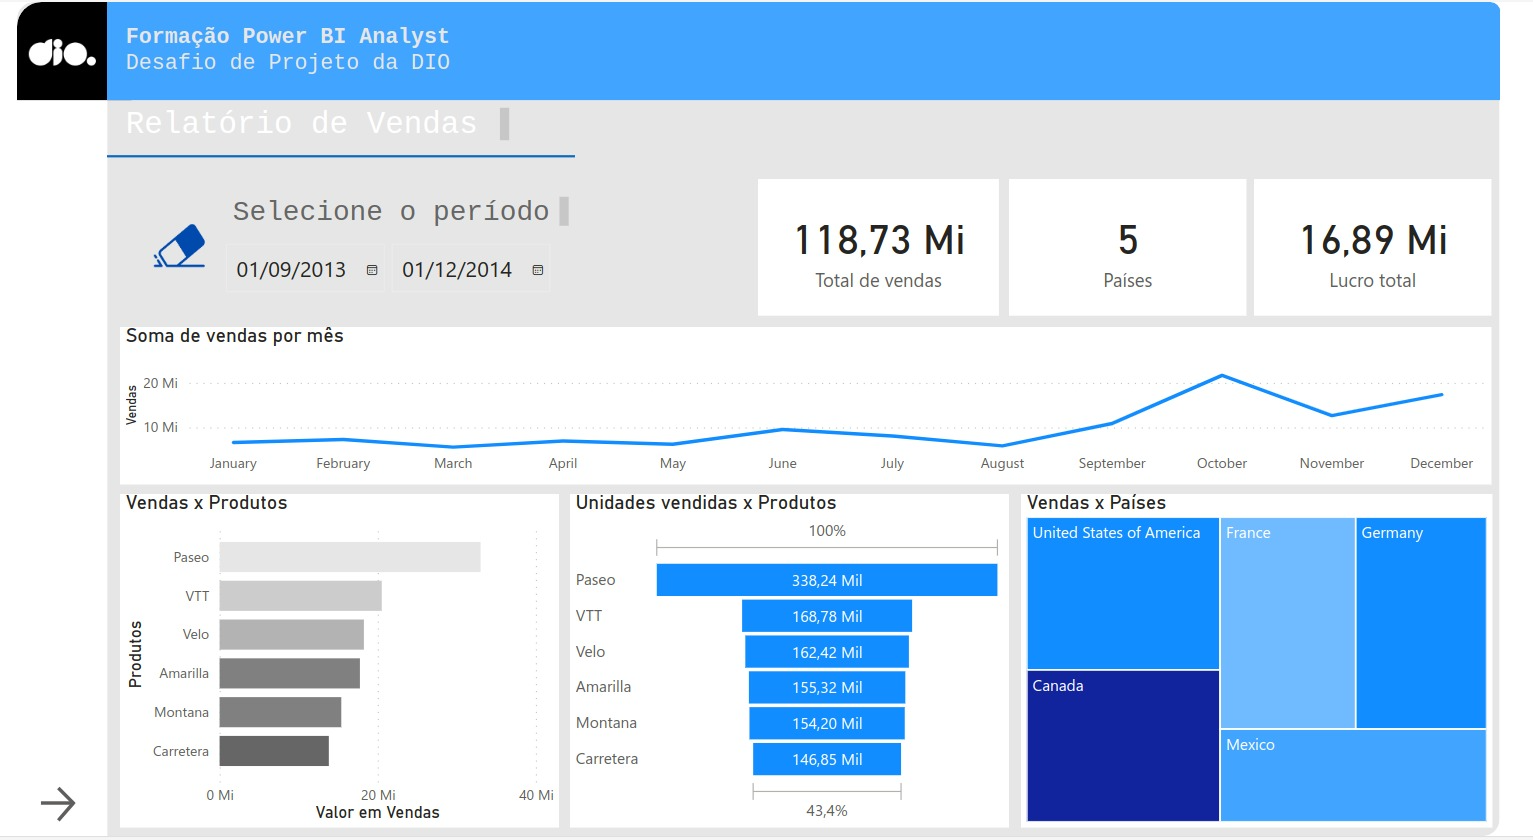

Layout of this report page (visuals, bound fields, positions):
{"tool":"powerbi","page":{"name":"Page 1","canvas":[1280,720],"ordinal":0},"visuals":[{"type":"shape","box":[0,0,1280,720],"z":0},{"type":"shape","box":[0,81.7,77.5,638.3],"z":1000},{"type":"shape","box":[0,0,99.2,85],"z":2000},{"type":"shape","box":[77.5,0,1202.5,85],"z":3000},{"type":"image","box":[5,6.7,68.3,71.7],"z":4000},{"type":"textbox","box":[89.2,15,300,55],"z":5000},{"type":"textbox","box":[89.1,86.4,313.6,47.3],"z":6000},{"type":"shape","box":[77.3,125.5,403.6,16.4],"z":7000},{"type":"card","fields":{"Values":["Sum(financials. Sales)"]},"box":[640,152.7,208.2,118.2],"z":8000},{"type":"card","fields":{"Values":["Count(financials.Country)"]},"box":[856.4,152.7,204.5,118.2],"z":9000},{"type":"card","fields":{"Values":["Sum(financials.Profit)"]},"box":[1068.2,152.7,205.5,118.2],"z":10000},{"type":"lineChart","title":"Soma de vendas por mes","fields":{"Category":["financials.Date.Variation.Date Hierarchy.Month"],"Y":["Sum(financials. Sales)"]},"box":[89.1,280.9,1184.5,132.7],"z":11000},{"type":"clusteredBarChart","title":"Vendas x Produtos","fields":{"Y":["Sum(financials. Sales)"],"Category":["financials.Product"]},"box":[89.1,424.5,379.1,288.2],"z":12000},{"type":"funnel","title":"Unidades vendidas x Produtos","fields":{"Y":["Sum(financials.Units Sold)"],"Category":["financials.Product"]},"box":[477.8,424.4,378.9,287.8],"z":13000},{"type":"treemap","title":"Vendas x Paises","fields":{"Values":["Sum(financials. Sales)"],"Group":["financials.Country"]},"box":[866.7,424.4,406.7,287.8],"z":14000},{"type":"slicer","fields":{"Values":["financials.Date"]},"box":[167.8,198.9,300,60],"z":15000},{"type":"textbox","box":[181.1,163.3,300,35.6],"z":16000},{"type":"image","box":[113.3,181.1,54.4,57.8],"z":17000},{"type":"actionButton","box":[113.3,184.4,54.4,54.4],"z":18000},{"type":"actionButton","box":[14.4,672.2,47.8,40],"z":19000}]}

Visuals, with their boxes in screenshot pixels (x1, y1, x2, y2), scaled from the page's 1280x720 canvas onto the 1533x840 screenshot:
shape: (0, 0, 1532, 839)
shape: (0, 95, 93, 839)
shape: (0, 0, 119, 99)
shape: (93, 0, 1532, 99)
image: (6, 8, 88, 91)
textbox: (107, 18, 466, 82)
textbox: (107, 101, 482, 156)
shape: (93, 146, 576, 166)
card - Sum(financials. Sales): (766, 178, 1016, 316)
card - Count(financials.Country): (1026, 178, 1271, 316)
card - Sum(financials.Profit): (1279, 178, 1525, 316)
"Soma de vendas por mes" lineChart: (107, 328, 1525, 483)
"Vendas x Produtos" clusteredBarChart: (107, 495, 561, 831)
"Unidades vendidas x Produtos" funnel: (572, 495, 1026, 831)
"Vendas x Paises" treemap: (1038, 495, 1525, 831)
slicer - financials.Date: (201, 232, 560, 302)
textbox: (217, 191, 576, 232)
image: (136, 211, 201, 279)
actionButton: (136, 215, 201, 279)
actionButton: (17, 784, 74, 831)
